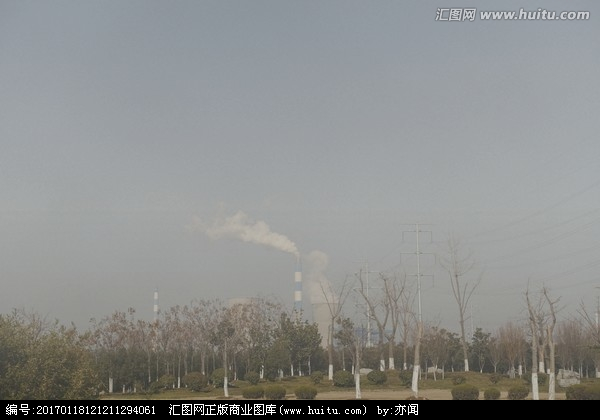dust: (197, 207, 313, 261), (300, 238, 354, 306)
